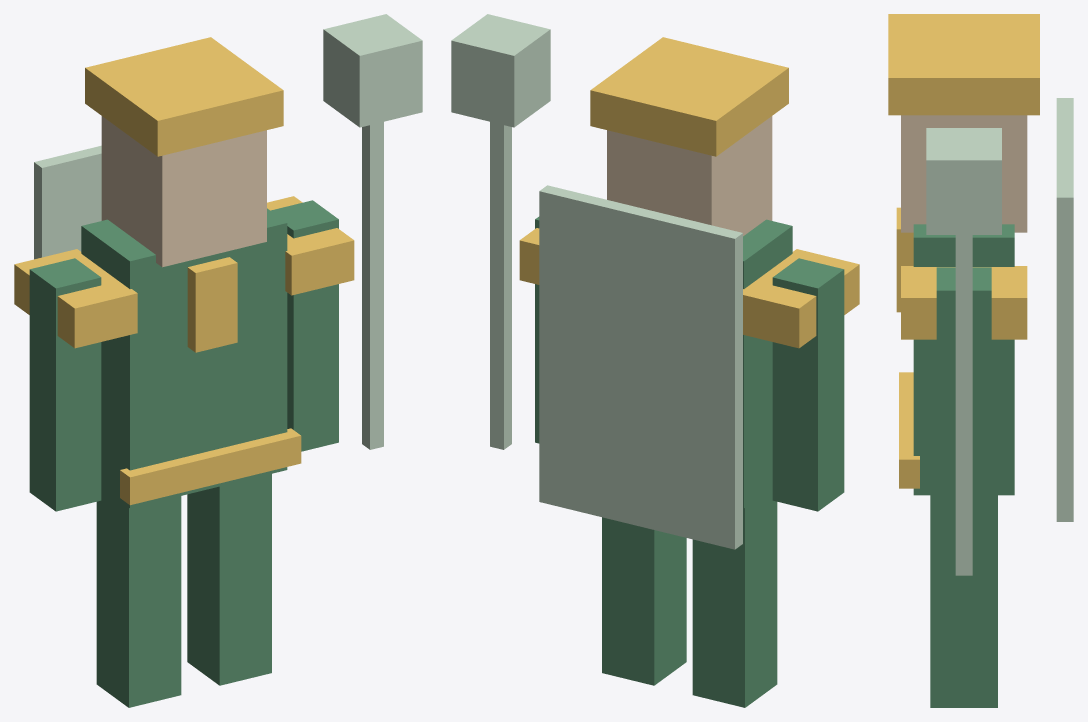
Rendered from 20_rook_dubwater_scout_near_vine.glb.
3 views of the same model, side by side, from view 1: azimuth 30°, elevation 25°; view 2: azimuth 150°, elevation 25°; view 3: azimuth 270°, elevation 25° (orthographic). The views are drawn at different scales.
Visible parts, largest first — view 1: Rook Dubwater, Scout near Vine; view 2: Rook Dubwater, Scout near Vine; view 3: Rook Dubwater, Scout near Vine.
Part boxes in pixels (box(x1,y1,x2,y2)): Rook Dubwater, Scout near Vine: box(14, 14, 422, 707); Rook Dubwater, Scout near Vine: box(451, 14, 859, 707); Rook Dubwater, Scout near Vine: box(888, 14, 1073, 707).
Bounding box in the file's own units: 1.03 × 1.64 × 0.439.
